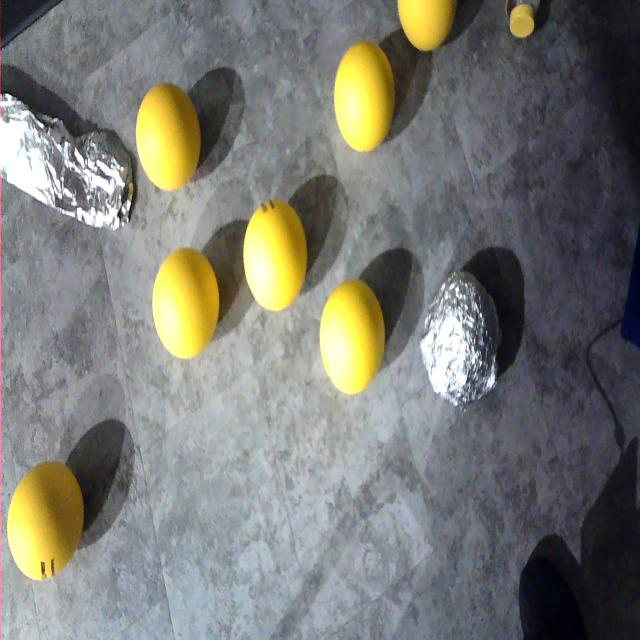fuel: (5, 454, 86, 586), (315, 276, 390, 398), (242, 195, 311, 322), (134, 76, 206, 195), (153, 239, 220, 361), (332, 43, 397, 157), (394, 0, 461, 53)
